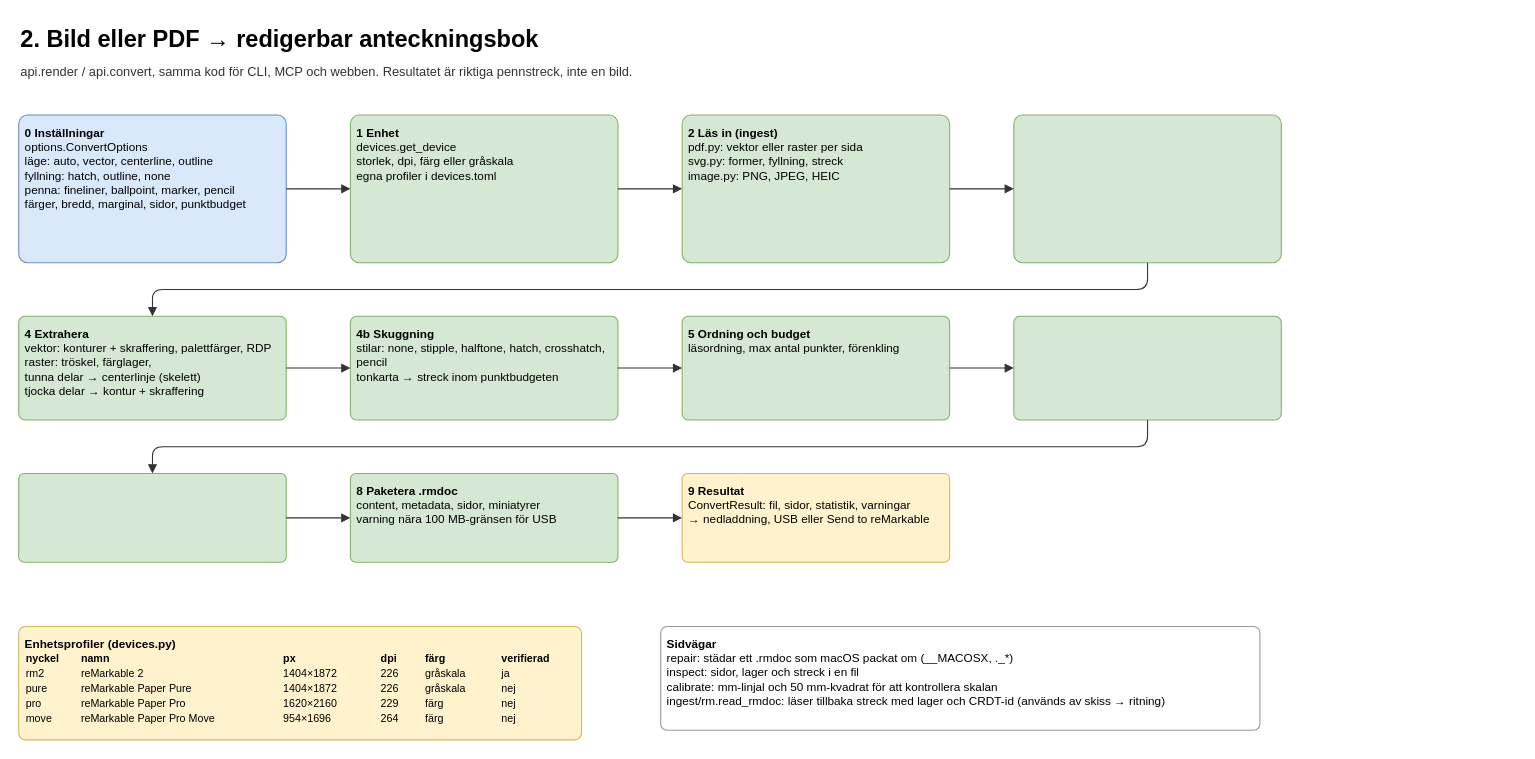
This 1535x759 diagram has some shape labels left out. The shapes that lost their labels are listed below. From the top down, each one's box as (x1, y1, x2, y2) in pixels, then its label:
(1013, 114, 1281, 263): 3 Placera geometry/transform.place skala och marginal efter Fit
(1013, 315, 1281, 420): 6 Skriv .rm v6 writer/rm_v6.write_page lager, CRDT-id per streck (rmscene)
(18, 472, 286, 562): 7 Förhandsbild render/preview.render_rm samma streck som plattan visar
